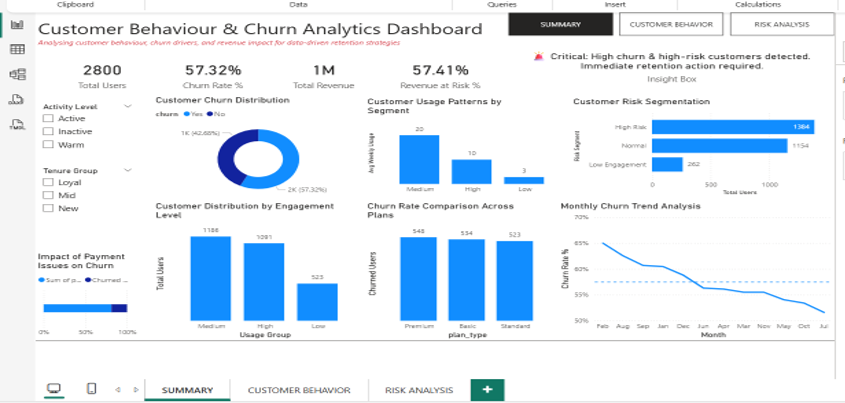

The dashboard page shown, as its layout file describes it:
{"tool":"powerbi","page":{"name":"SUMMARY","canvas":[1280,720],"ordinal":0},"visuals":[{"type":"card","fields":{"Values":["Calculations.Total Users"]},"box":[19.5,87,177,97.4],"z":0},{"type":"card","fields":{"Values":["Calculations.Revenue at Risk %"]},"box":[560.1,87,177,97.4],"z":1000},{"type":"card","fields":{"Values":["Calculations.Total Revenue"]},"box":[373.5,87,177,97.4],"z":2000},{"type":"card","fields":{"Values":["Calculations.Churn Rate %"]},"box":[196.5,87,177,97.4],"z":3000},{"type":"donutChart","title":"Customer Churn Distribution","fields":{"Category":["Customers.churn"],"Y":["Calculations.Total Users"]},"box":[188,180.7,338.9,230.5],"z":4000},{"type":"lineChart","title":"Monthly Churn Trend Analysis","fields":{"Category":["Customers.Month"],"Y":["Calculations.Churn Rate %"]},"box":[835.4,414,444.6,306],"z":5000},{"type":"card","fields":{"Values":["Calculations.Insight Box"]},"box":[757.1,68.6,522.9,97.1],"z":6000},{"type":"hundredPercentStackedBarChart","title":"Impact of Payment Issues on Churn","fields":{"Y":["Sum(Customers.payment_failures)","Calculations.Churned Users"]},"box":[0,525.6,167.4,194.9],"z":7000},{"type":"slicer","fields":{"Values":["Customers.Tenure Group"]},"box":[0,333.4,167.4,138.6],"z":8000},{"type":"slicer","fields":{"Values":["Customers.Activity Level"]},"box":[0,193.5,167.4,127.6],"z":9000},{"type":"clusteredBarChart","title":"Customer Risk Segmentation","fields":{"Category":["Customers.Risk Segment"],"Y":["Calculations.Total Users"]},"box":[856,185.5,424,220.9],"z":10000},{"type":"clusteredColumnChart","title":"Customer Distribution by Engagement Level","fields":{"Category":["Customers.Usage Group"],"Y":["Calculations.Total Users"]},"box":[188,414,338.9,306],"z":11000},{"type":"clusteredColumnChart","title":"Churn Rate Comparison Across Plans","fields":{"Category":["Customers.plan_type"],"Y":["Calculations.Churned Users"]},"box":[526.9,414,308.7,306],"z":12000},{"type":"clusteredColumnChart","title":"Customer Usage Patterns by Segment","fields":{"Y":["Calculations.Avg Usage"],"Category":["Customers.Usage Group"]},"box":[526.9,185.5,329.3,220.9],"z":13000},{"type":"textbox","box":[0,8.2,757.5,83.7],"z":14000},{"type":"pageNavigator","box":[757.1,0,522.9,50],"z":15000}]}

Visuals, with their boxes on the page's 1280x720 design canvas (x1, y1, x2, y2). These are canvas units, not pixel positions in the 845x403 screenshot, which may show the page scaled, cropped or inside an application window:
card - Calculations.Total Users: 20/87/196/184
card - Calculations.Revenue at Risk %: 560/87/737/184
card - Calculations.Total Revenue: 374/87/550/184
card - Calculations.Churn Rate %: 196/87/374/184
"Customer Churn Distribution" donutChart: 188/181/527/411
"Monthly Churn Trend Analysis" lineChart: 835/414/1280/720
card - Calculations.Insight Box: 757/69/1280/166
"Impact of Payment Issues on Churn" hundredPercentStackedBarChart: 0/526/167/720
slicer - Customers.Tenure Group: 0/333/167/472
slicer - Customers.Activity Level: 0/194/167/321
"Customer Risk Segmentation" clusteredBarChart: 856/186/1280/406
"Customer Distribution by Engagement Level" clusteredColumnChart: 188/414/527/720
"Churn Rate Comparison Across Plans" clusteredColumnChart: 527/414/836/720
"Customer Usage Patterns by Segment" clusteredColumnChart: 527/186/856/406
textbox: 0/8/758/92
pageNavigator: 757/0/1280/50
